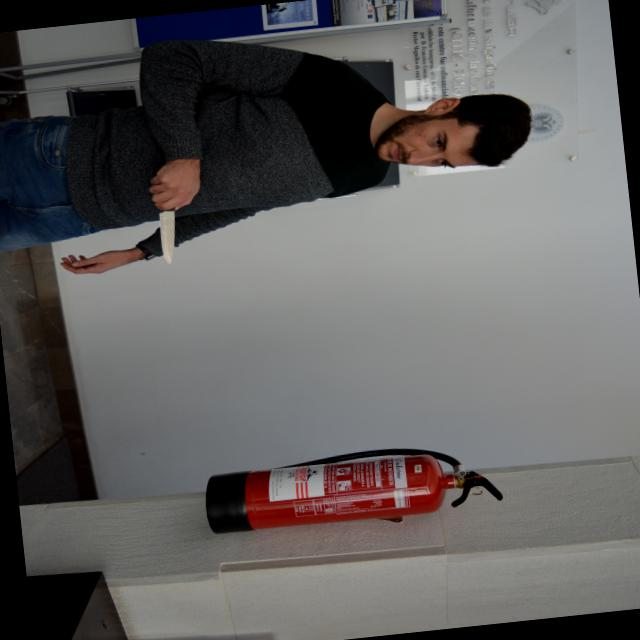knife: (152, 196, 186, 268)
